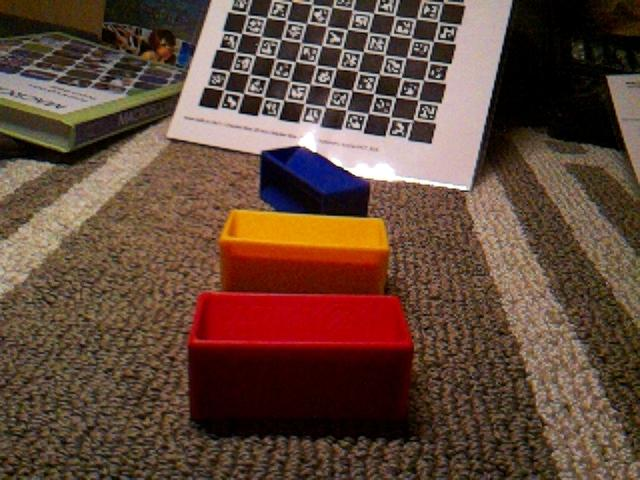blue: (257, 143, 372, 217)
red: (187, 289, 415, 431)
yellow: (218, 208, 391, 294)
